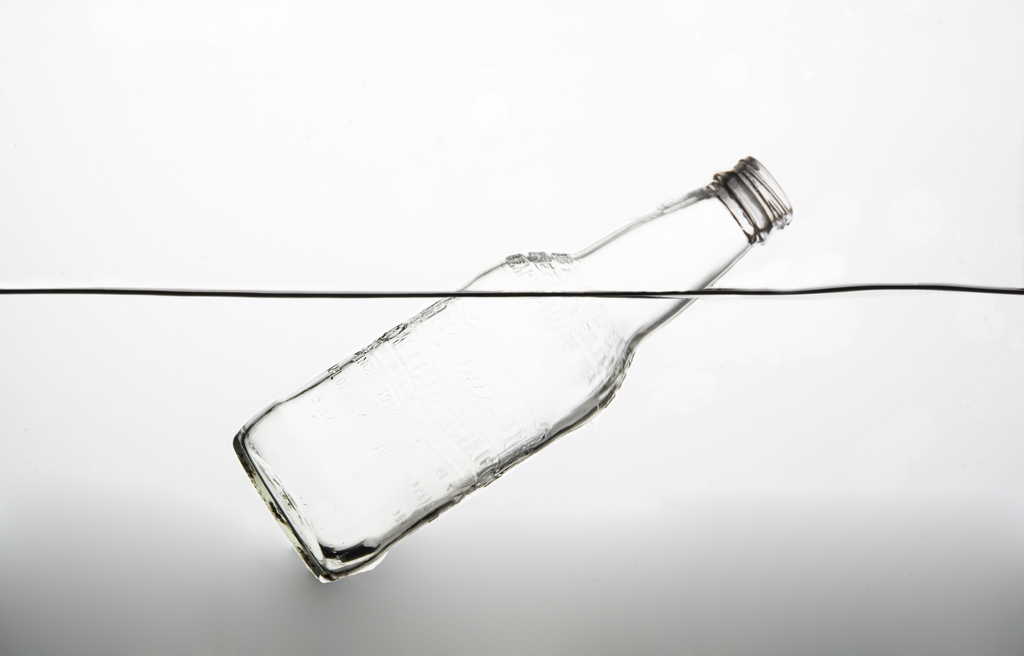glass of water: (209, 292, 673, 579)
